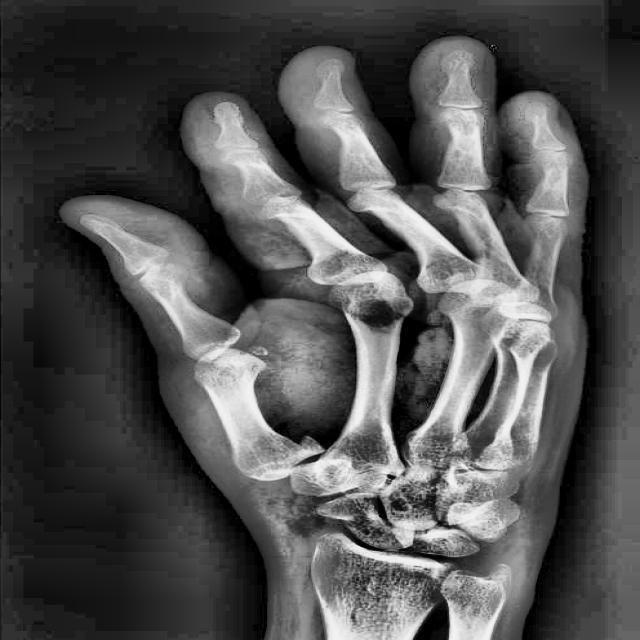fracture: (276, 432, 333, 476), (438, 205, 482, 219), (266, 212, 311, 225), (355, 207, 404, 216)
